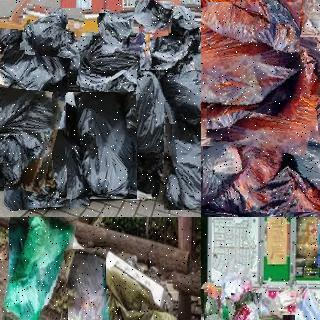Garbage: (201, 32, 320, 151), (201, 0, 305, 119), (201, 133, 298, 217), (248, 60, 320, 173), (67, 92, 137, 199), (4, 217, 73, 320), (2, 128, 88, 209), (246, 129, 320, 217), (0, 85, 59, 190), (0, 29, 70, 110), (116, 70, 172, 156), (160, 112, 201, 212), (78, 34, 141, 97), (137, 16, 201, 73), (21, 6, 84, 57), (66, 248, 108, 320), (157, 52, 201, 120), (98, 12, 150, 53), (268, 279, 320, 320), (168, 1, 201, 51), (134, 0, 172, 36), (228, 291, 265, 320)
